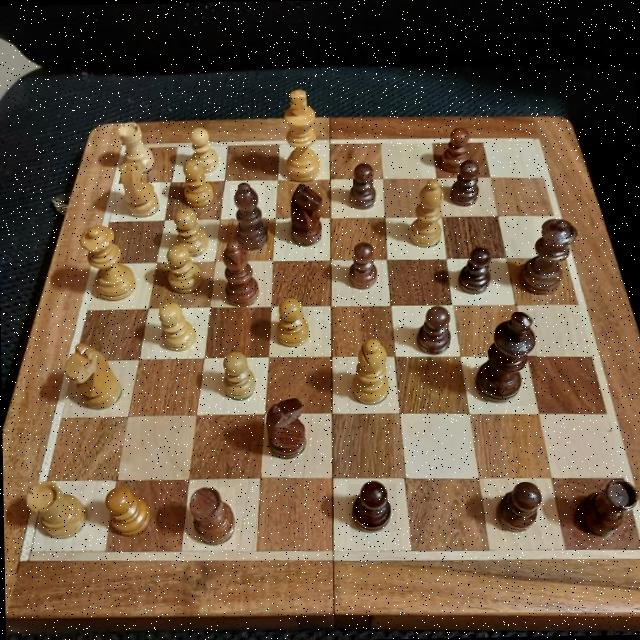black-camel: (218, 245, 268, 303), (230, 184, 266, 247)
black-elephant: (571, 474, 640, 538), (186, 486, 236, 550)
black-horse: (267, 397, 307, 461), (288, 183, 322, 248)
black-king: (486, 312, 538, 406)
black-pawn: (349, 482, 397, 532), (506, 479, 542, 536), (456, 246, 492, 292), (354, 237, 379, 287), (442, 126, 472, 166), (422, 306, 448, 351), (352, 161, 378, 205), (458, 165, 479, 202)
black-queen: (534, 218, 576, 298)
white-camel: (351, 335, 390, 407), (417, 175, 442, 251)
white-elephant: (26, 484, 85, 530), (114, 122, 160, 166)
white-horse: (64, 343, 124, 408), (116, 170, 160, 216)
white-king: (279, 91, 327, 185)
white-pawn: (159, 304, 194, 350), (221, 354, 256, 398), (276, 300, 308, 346), (165, 250, 199, 289), (181, 162, 211, 206), (174, 216, 202, 246), (189, 131, 213, 156)
white-queen: (84, 225, 134, 303)
